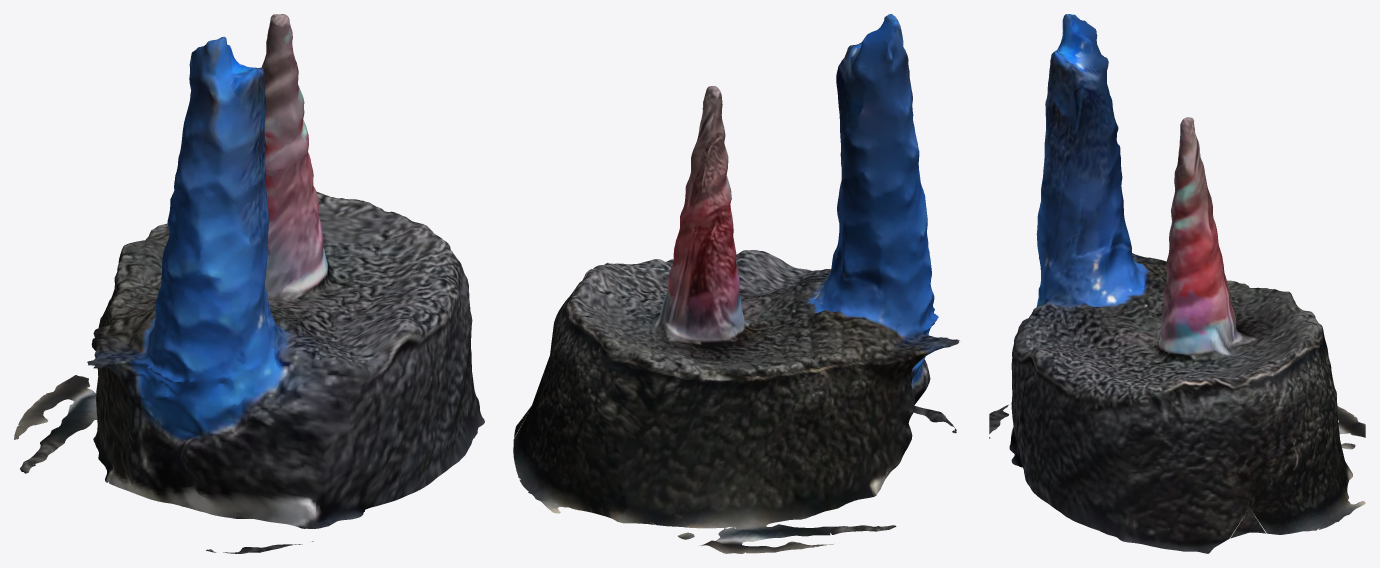
The model's file is Ella_Giannetta.glb.
The picture shows the model from 3 angles, left to right: view 1: azimuth 30°, elevation 25°; view 2: azimuth 150°, elevation 25°; view 3: azimuth 270°, elevation 25°; orthographic projection. The views are drawn at different scales.
Visible parts, largest first — view 1: mesh; view 2: mesh; view 3: mesh.
Boxes of the visible parts, bbox=[...] form: mesh: bbox=[14, 14, 484, 553]; mesh: bbox=[513, 14, 959, 553]; mesh: bbox=[989, 14, 1365, 553].
Bounding box in the file's own units: 2.33 × 2.48 × 2.09.
Materials: 1 (1 with a texture image).
